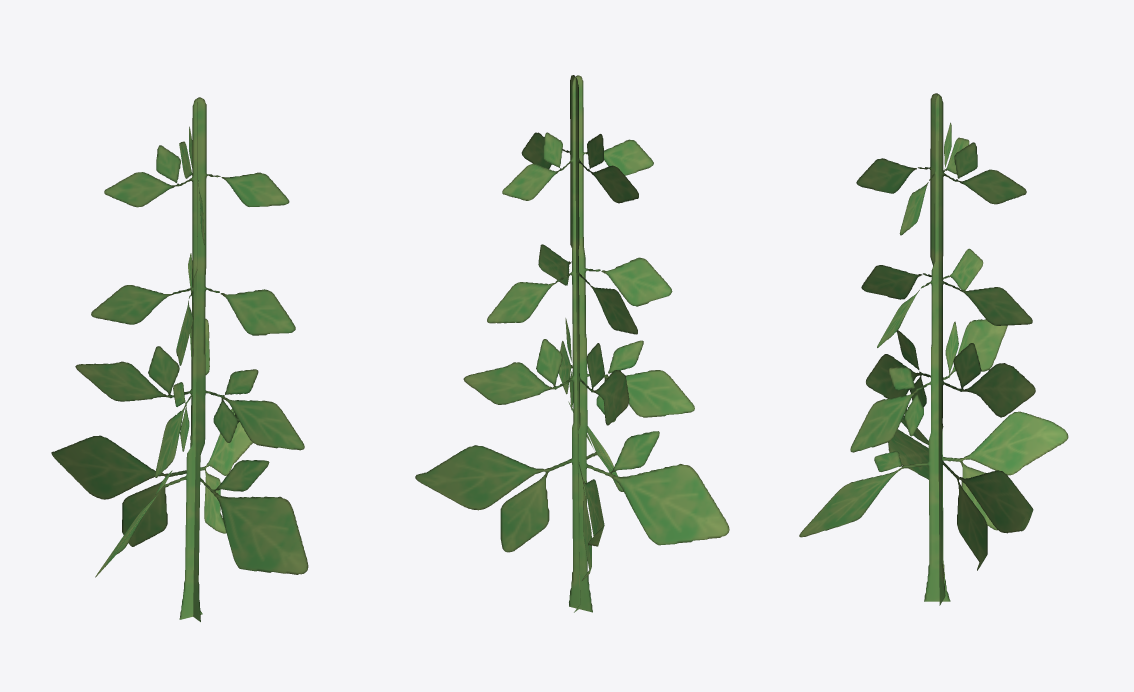
The model's file is LeafSetF_9.fbx.
The picture shows the model from 3 angles, left to right: view 1: azimuth 30°, elevation 25°; view 2: azimuth 150°, elevation 25°; view 3: azimuth 270°, elevation 25°; orthographic projection. The views are drawn at different scales.
Visible parts, largest first — view 1: LeafSetF_9; view 2: LeafSetF_9; view 3: LeafSetF_9.
Boxes of the visible parts, bbox=[...] form: LeafSetF_9: bbox=[51, 97, 308, 621]; LeafSetF_9: bbox=[415, 75, 729, 612]; LeafSetF_9: bbox=[799, 93, 1068, 605].
Bounding box in the file's own units: 0.7089 × 1.17 × 0.7043.
